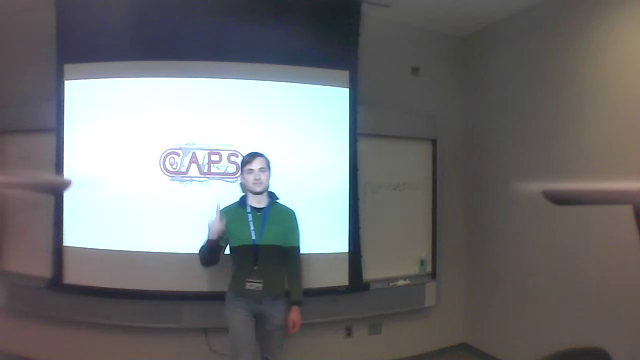up: (204, 199, 232, 238)
